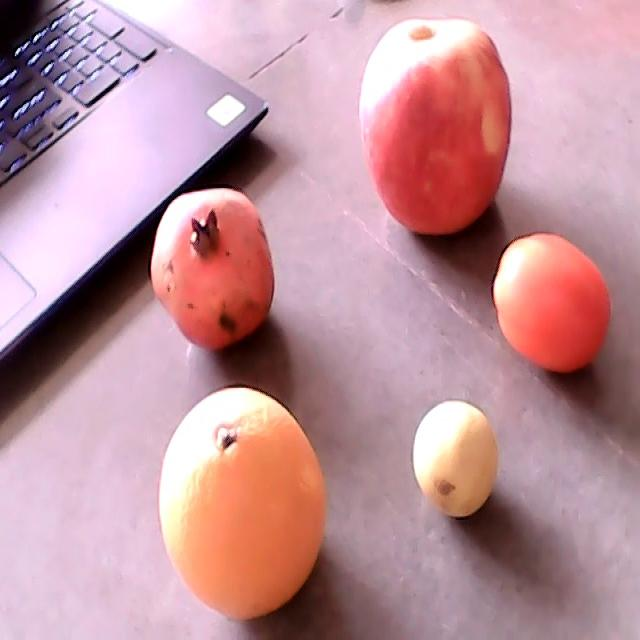apple: (358, 17, 513, 235)
lemon: (412, 398, 498, 516)
orange: (160, 387, 325, 618)
pomegranate: (152, 188, 274, 350)
tomato: (494, 233, 610, 374)
